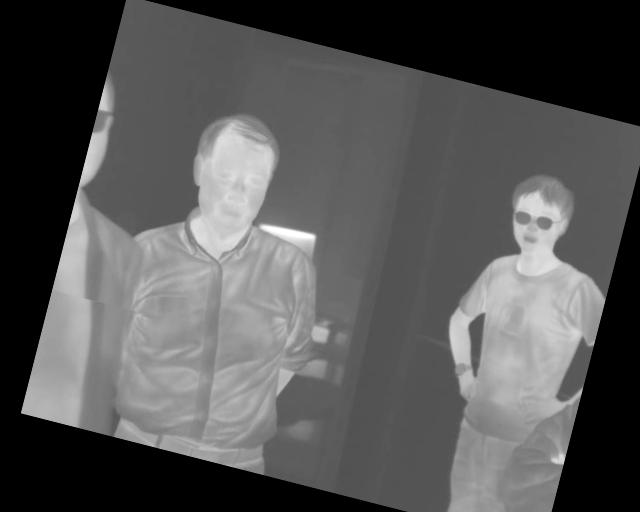face: (178, 103, 286, 237), (500, 167, 582, 262)
